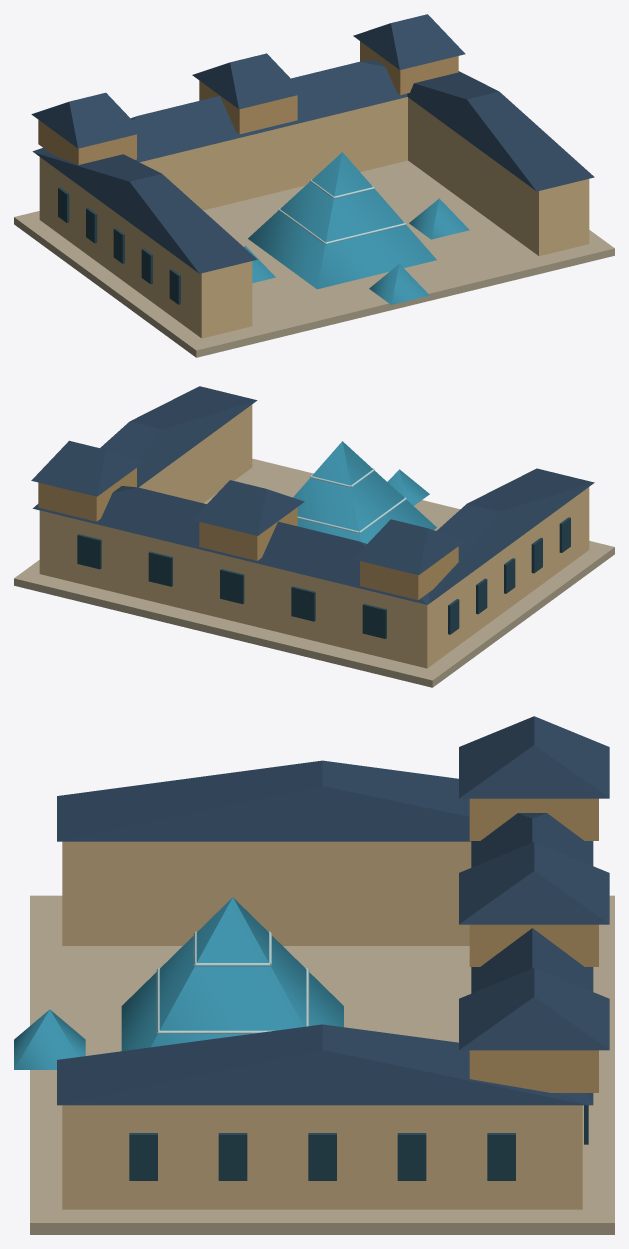
The model's file is louvre.glb.
3 renders of one model, top to bottom at view 1: azimuth 30°, elevation 25°; view 2: azimuth 150°, elevation 25°; view 3: azimuth 270°, elevation 25°, orthographic. The views are drawn at different scales.
Parts seen in each view (by area): view 1: roof_56646A, body_D8CBB3, base_B8B49D, pyramid_8FB1B7, body_D0C1A5, detail_6B6A5B, pyramid_CCDBD3; view 2: body_D8CBB3, roof_56646A, base_B8B49D, pyramid_8FB1B7, body_D0C1A5, detail_6B6A5B, pyramid_CCDBD3; view 3: roof_56646A, body_D8CBB3, base_B8B49D, pyramid_8FB1B7, body_D0C1A5, detail_6B6A5B, pyramid_CCDBD3.
Part boxes in pixels (x1=…): roof_56646A: x1=31, y1=14, x2=594, y2=273; body_D8CBB3: x1=39, y1=97, x2=589, y2=338; base_B8B49D: x1=14, y1=160, x2=614, y2=357; pyramid_8FB1B7: x1=244, y1=152, x2=469, y2=304; body_D0C1A5: x1=38, y1=41, x2=458, y2=164; detail_6B6A5B: x1=58, y1=187, x2=180, y2=304; pyramid_CCDBD3: x1=278, y1=179, x2=406, y2=244; body_D8CBB3: x1=39, y1=404, x2=589, y2=668; roof_56646A: x1=31, y1=386, x2=594, y2=604; base_B8B49D: x1=14, y1=458, x2=614, y2=687; pyramid_8FB1B7: x1=293, y1=441, x2=436, y2=543; body_D0C1A5: x1=38, y1=468, x2=458, y2=600; detail_6B6A5B: x1=77, y1=517, x2=570, y2=638; pyramid_CCDBD3: x1=297, y1=468, x2=406, y2=533; roof_56646A: x1=57, y1=716, x2=609, y2=1105; body_D8CBB3: x1=62, y1=841, x2=582, y2=1209; base_B8B49D: x1=30, y1=895, x2=614, y2=1234; pyramid_8FB1B7: x1=14, y1=897, x2=343, y2=1069; body_D0C1A5: x1=469, y1=798, x2=598, y2=1092; detail_6B6A5B: x1=129, y1=1105, x2=588, y2=1180; pyramid_CCDBD3: x1=156, y1=931, x2=309, y2=1033.
Size of the model in its own units: 1 by 0.3056 by 0.7755.
